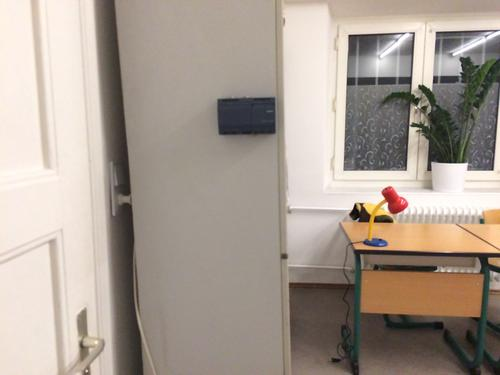iot2000: (216, 95, 276, 136)
